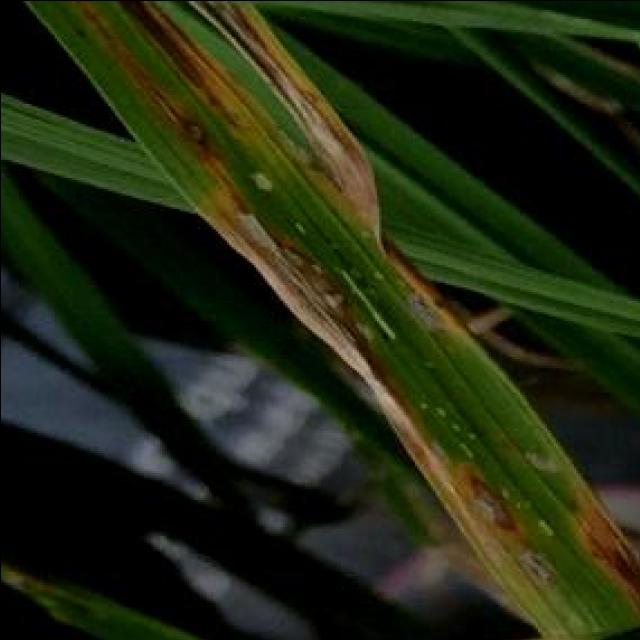Leaf_Blast: (452, 468, 535, 530), (510, 538, 575, 580)
